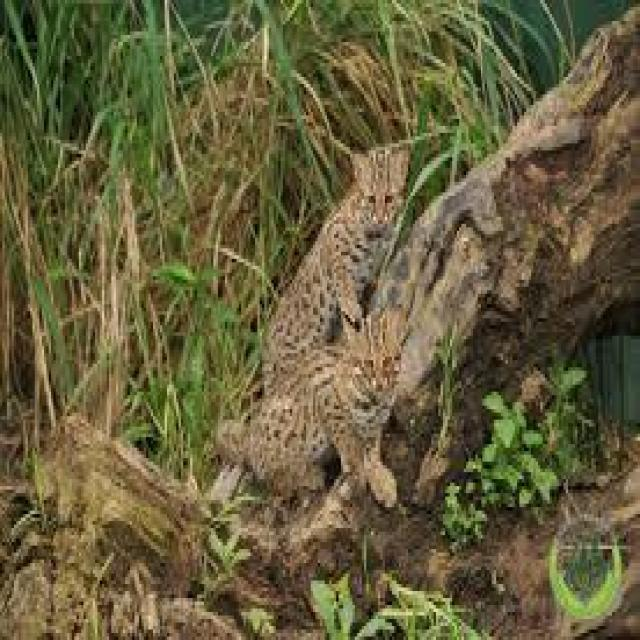leopard: (285, 365, 400, 470), (353, 146, 411, 312)
